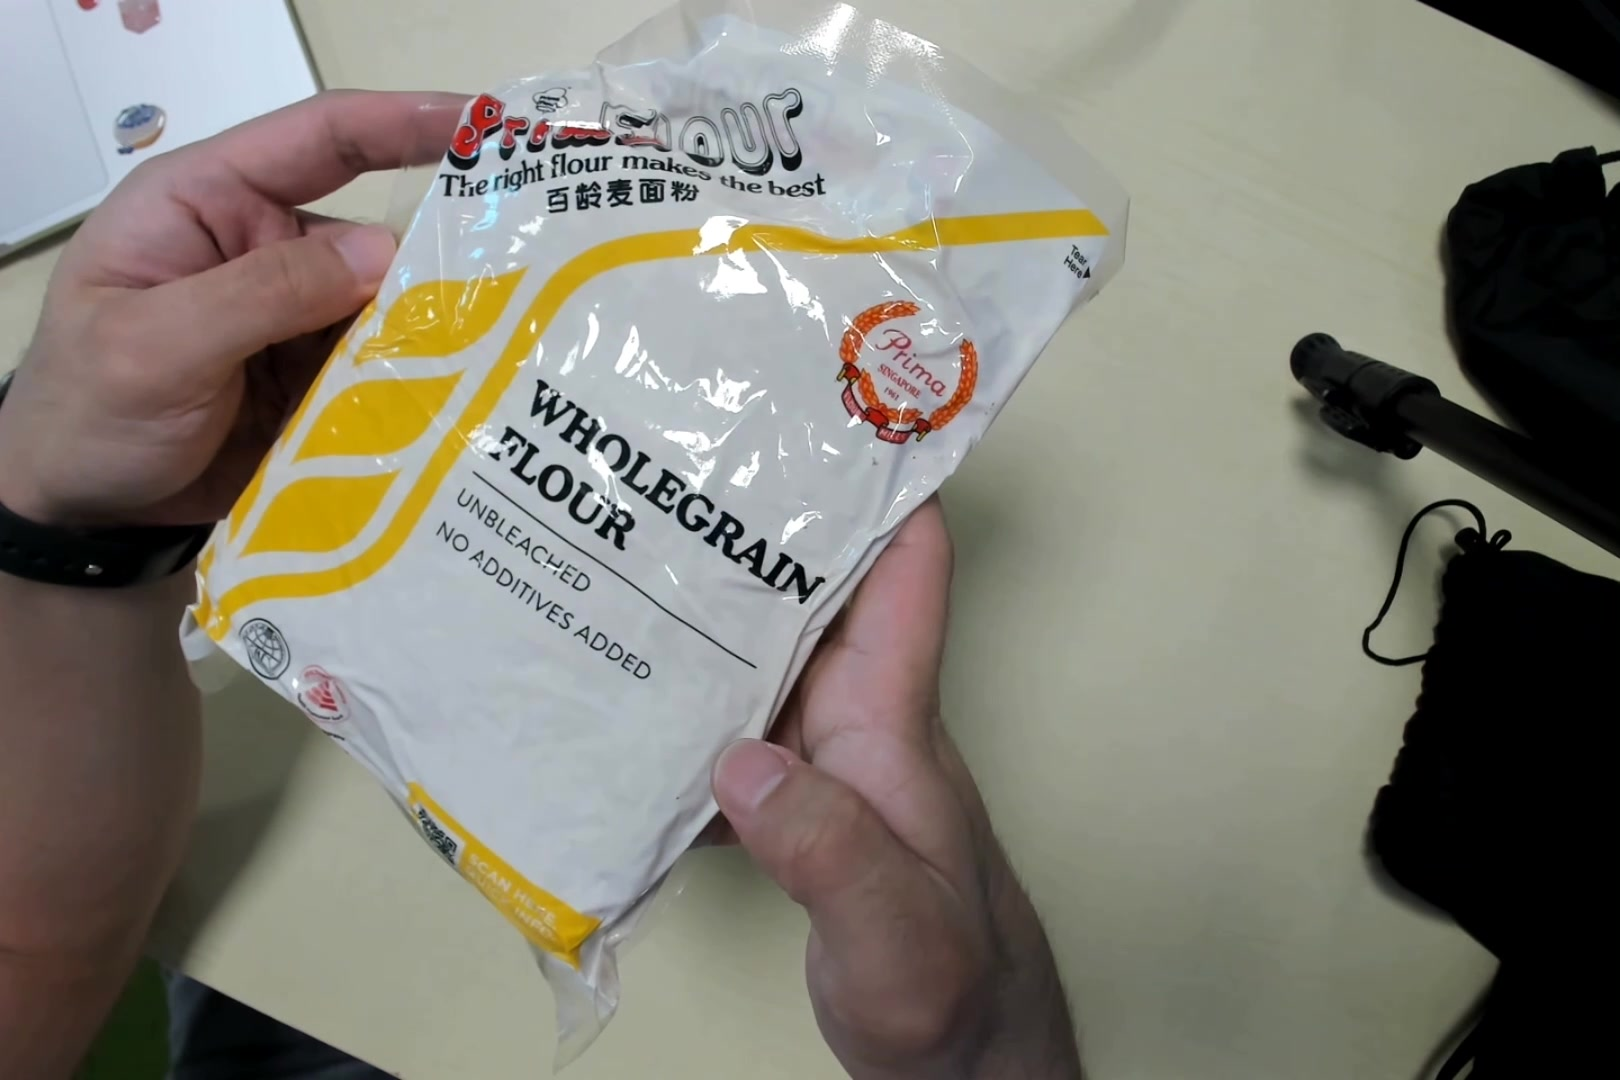OtherBakingNeeds_400-499g_Halal_NonHealthy: (183, 13, 1129, 978)
